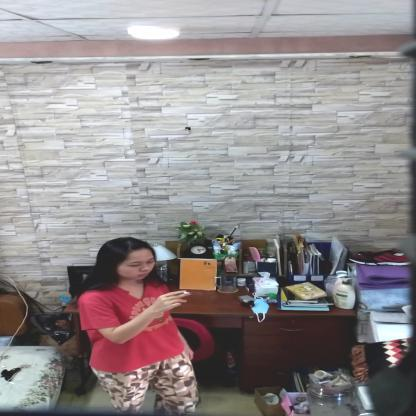cigarette: (182, 292, 192, 295)
person: (79, 237, 203, 415)
